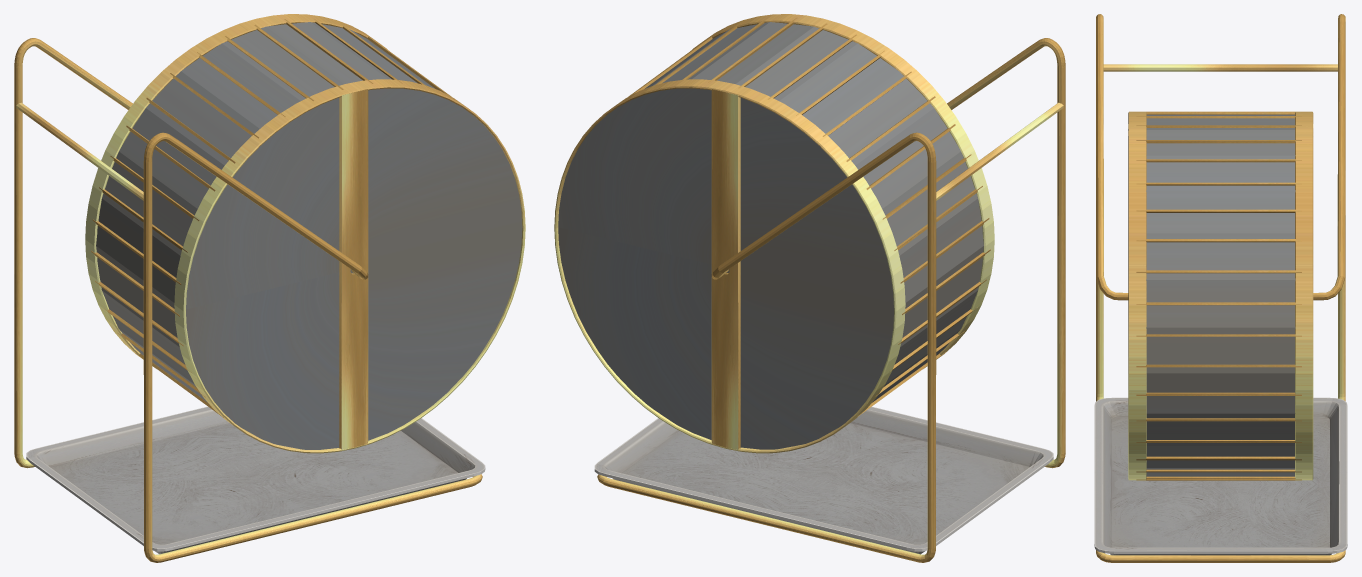
File: P_Hamster_Wheel_03.obj
The picture shows the model from 3 angles, left to right: view 1: azimuth 30°, elevation 25°; view 2: azimuth 150°, elevation 25°; view 3: azimuth 270°, elevation 25°; orthographic projection. The views are drawn at different scales.
Bounding box in the file's own units: 2.08 × 2.15 × 1.23.
Materials: 6 (6 with a texture image).
